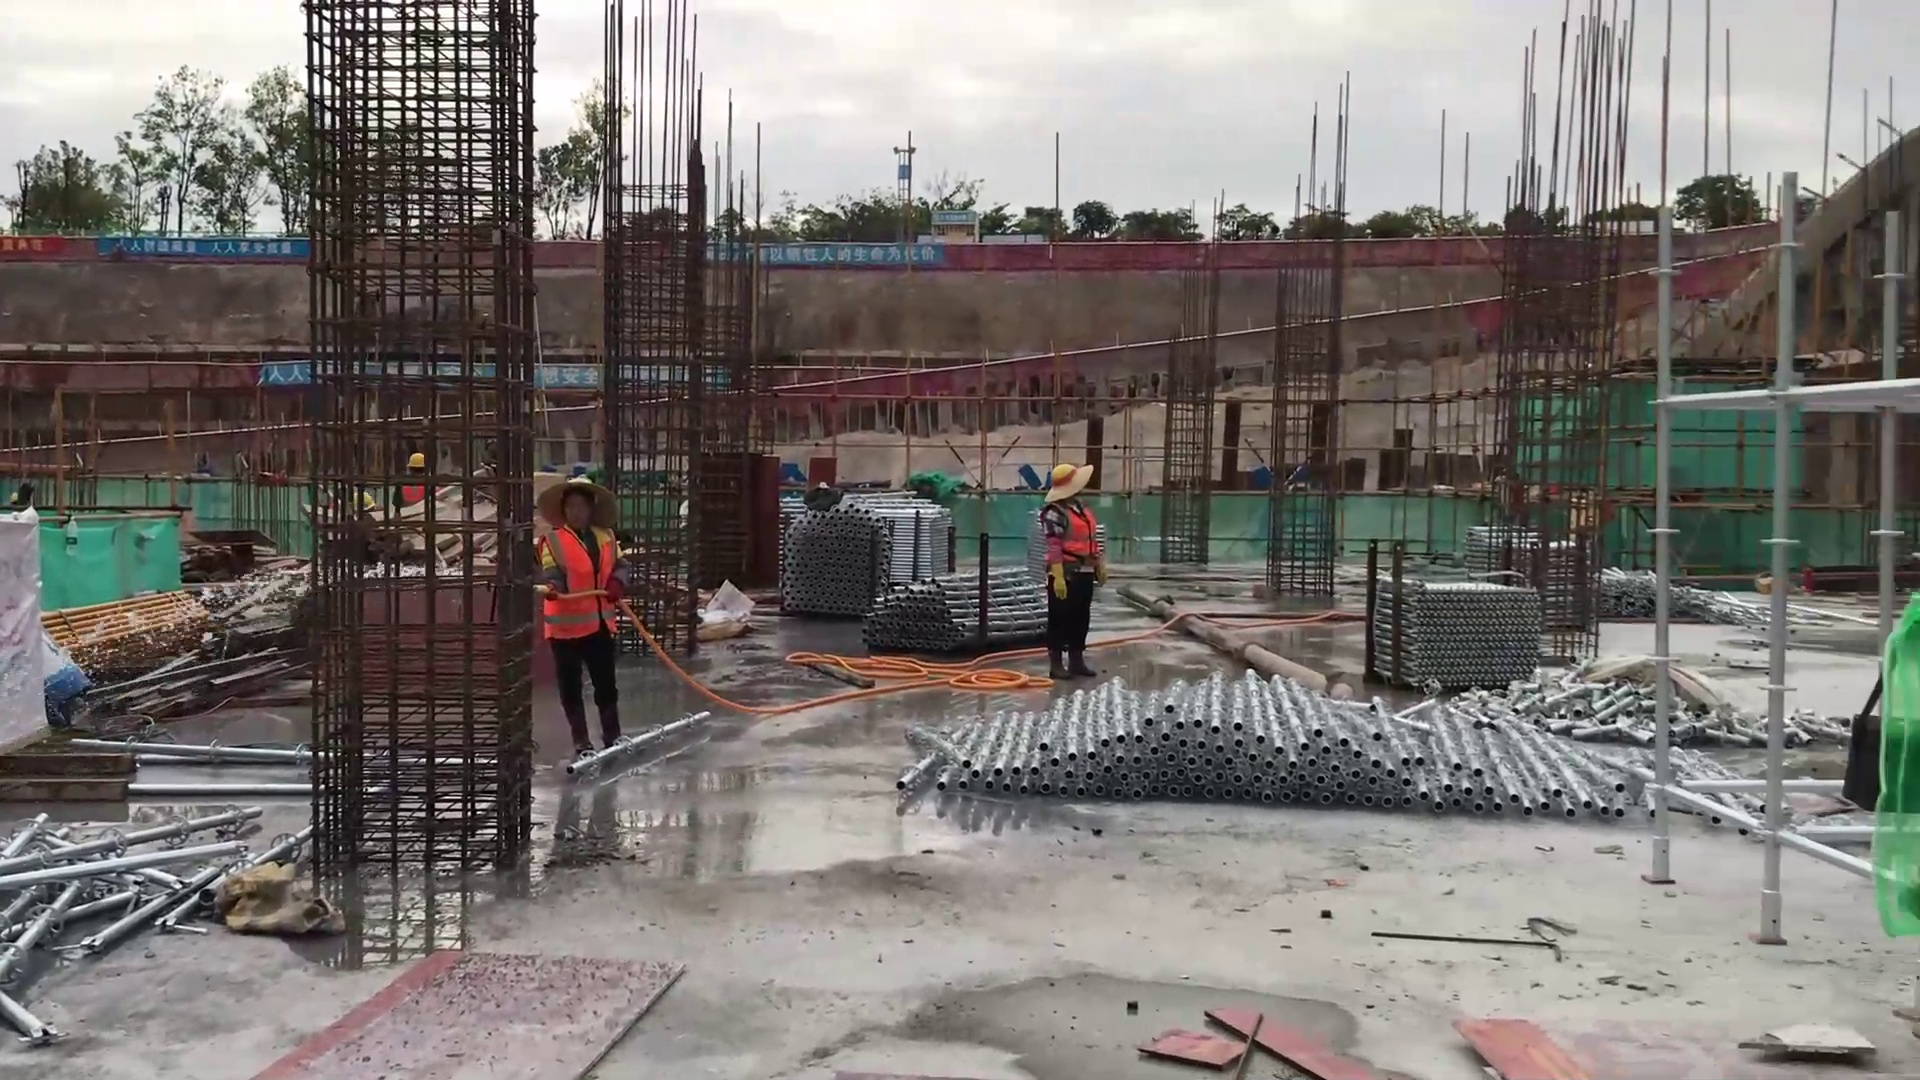helmet: (545, 478, 628, 533), (1045, 459, 1093, 498), (404, 453, 429, 472), (352, 489, 373, 507)
person: (538, 471, 628, 746), (1039, 458, 1107, 694), (397, 451, 437, 507)
scaffold: (949, 719, 1598, 814), (1394, 592, 1538, 694), (814, 494, 941, 596), (1484, 521, 1581, 629), (911, 572, 1028, 644), (1591, 581, 1754, 622)
slogan: (519, 352, 758, 387), (118, 239, 311, 272), (764, 249, 936, 276), (261, 354, 299, 377)
vest: (536, 532, 616, 635), (1054, 509, 1093, 576), (403, 474, 428, 506)
wood: (981, 232, 1691, 267)
